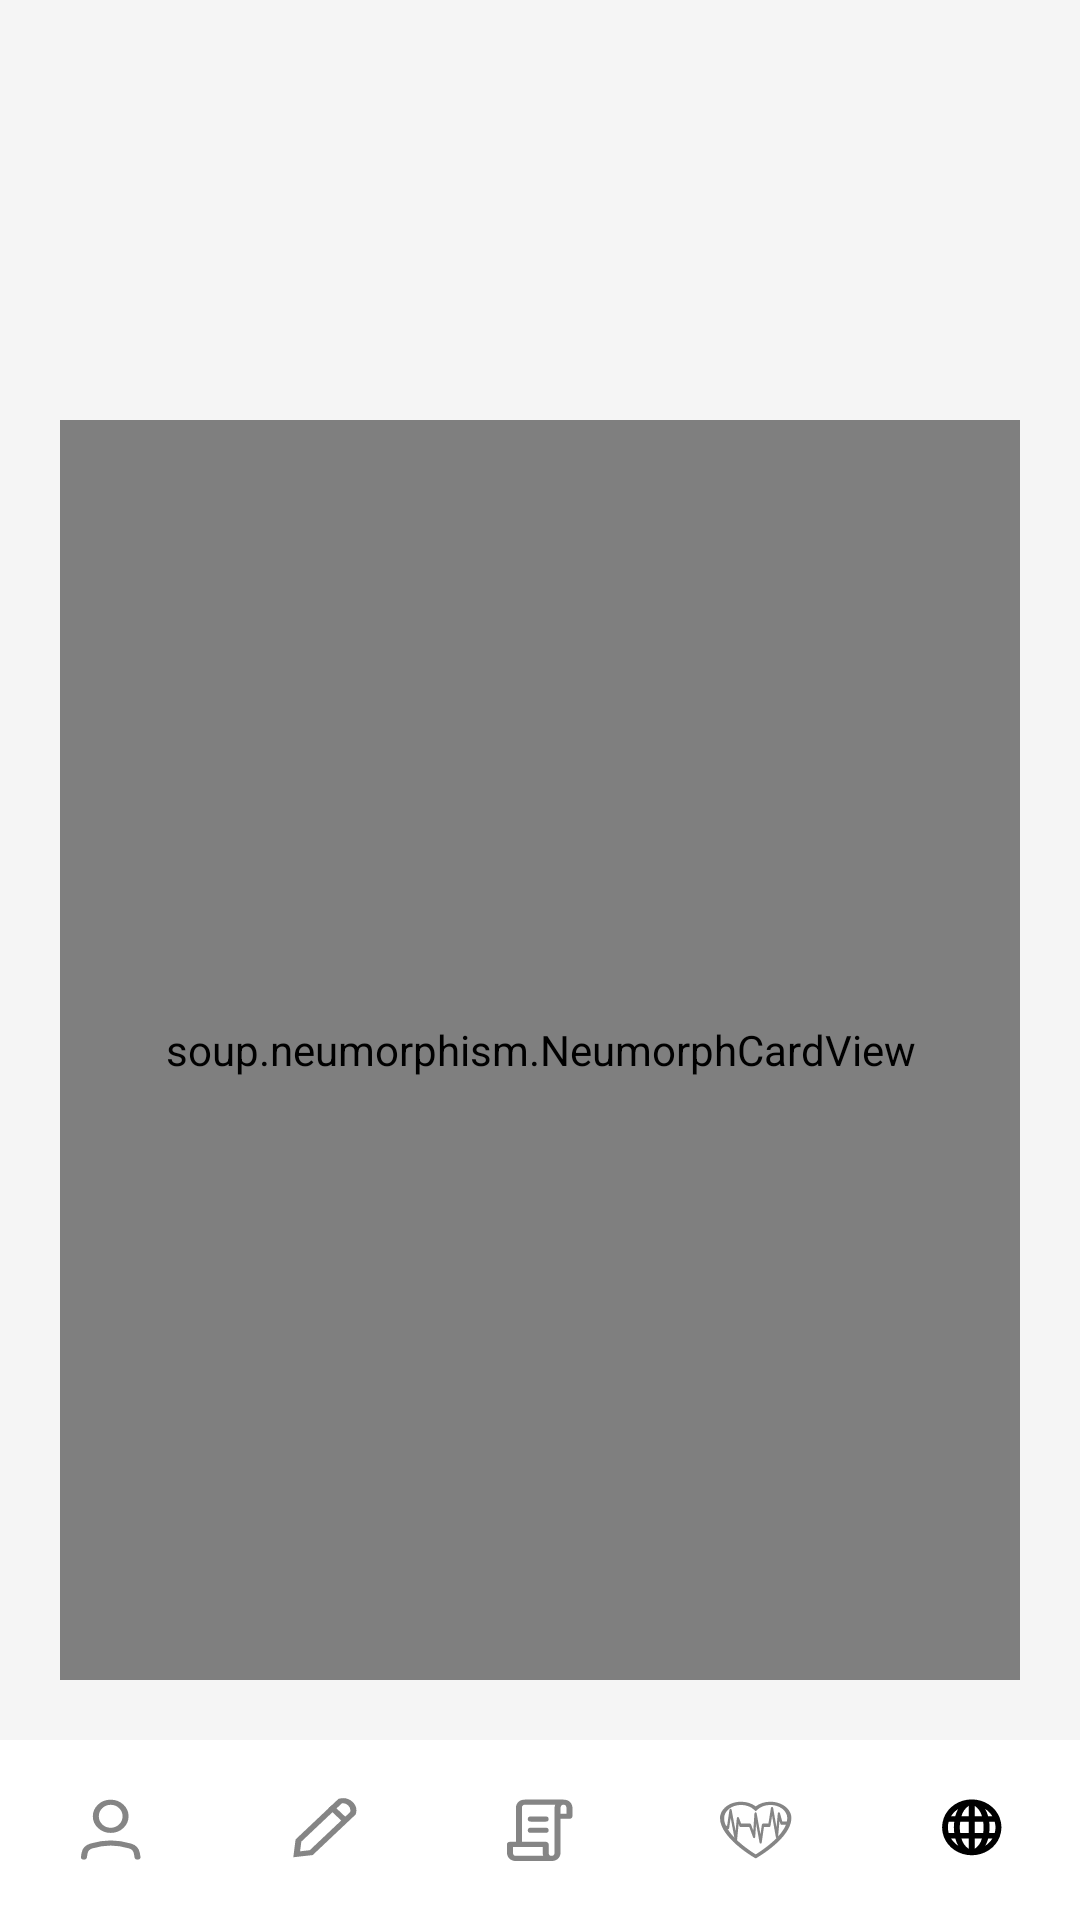

Where icons sit on this 1080px x 1920px app screen, as [x1, y1, x2, y2]:
edit: [293, 1798, 357, 1857]
heart: [720, 1801, 792, 1858]
profile: [81, 1799, 141, 1860]
scroll: [507, 1799, 573, 1861]
